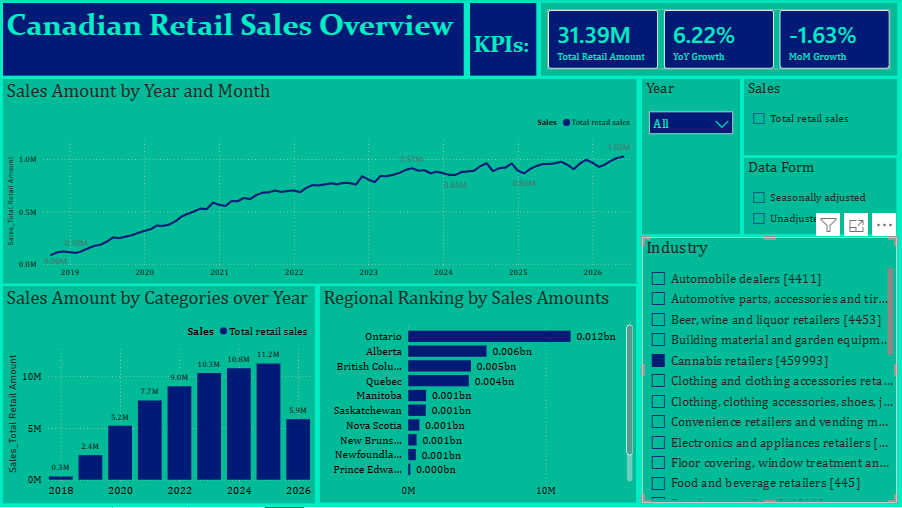

This screenshot's page, from the dashboard's own definition file:
{"tool":"powerbi","page":{"name":"Page 1","canvas":[1280,720],"ordinal":0},"visuals":[{"type":"lineChart","title":"Sales Amount by Year and Month","fields":{"Category":["20100056.Dated.Variation.Date Hierarchy.Year","20100056.Dated.Variation.Date Hierarchy.Month"],"Series":["20100056.Sales"],"Y":["Retail Sales Canada.Sales_Total Retail Amount"]},"box":[6.7,113.3,898.3,290],"z":0},{"type":"clusteredBarChart","title":"Regional Ranking by Sales Amounts","fields":{"Category":["Retail Sales Canada.Region"],"Y":["Retail Sales Canada.Region_Total Retail Amount"]},"box":[456.7,406.7,448,307],"z":1000},{"type":"slicer","title":"Year","fields":{"Values":["20100056.Dated.Variation.Date Hierarchy.Year","Retail Sales Canada.Dated.Variation.Date Hierarchy.Month"]},"box":[912.8,113.4,139,219.7],"z":2000},{"type":"slicer","title":"Data Form","fields":{"Values":["20100056.Data Form"]},"box":[1057.3,226,216,108],"z":3000},{"type":"slicer","title":"Industry","fields":{"Values":["20100056.Industry"]},"box":[912.8,338,361,377],"z":4000},{"type":"clusteredColumnChart","title":"Sales Amount by Categories over Year","fields":{"Category":["20100056.Dated.Variation.Date Hierarchy.Year"],"Series":["20100056.Sales"],"Y":["Retail Sales Canada.Sales_Total Retail Amount"]},"box":[6.7,406.7,442.2,307.6],"z":5000},{"type":"slicer","title":"Sales","fields":{"Values":["20100056.Sales"]},"box":[1057.3,113.4,216.9,108],"z":6000},{"type":"cardVisual","fields":{"Data":["20100056.Total Retail Amount","Retail Sales Canada.YoY Growth %","Retail Sales Canada.MoM Growth %"]},"box":[769.6,5,504.6,103.5],"z":7000},{"type":"textbox","box":[6.7,5,653.4,103.5],"z":8000},{"type":"textbox","box":[669,5.7,94,103.5],"z":9000}]}

Visuals, with their boxes in screenshot pixels (x1, y1, x2, y2), scaled from the page's 1280x720 canvas onto the 902x508 screenshot:
"Sales Amount by Year and Month" lineChart: <box>5,80,638,285</box>
"Regional Ranking by Sales Amounts" clusteredBarChart: <box>322,287,638,504</box>
"Year" slicer: <box>643,80,741,235</box>
"Data Form" slicer: <box>745,159,897,236</box>
"Industry" slicer: <box>643,238,898,504</box>
"Sales Amount by Categories over Year" clusteredColumnChart: <box>5,287,316,504</box>
"Sales" slicer: <box>745,80,898,156</box>
cardVisual - 20100056.Total Retail Amount x Retail Sales Canada.YoY Growth %: <box>542,4,898,77</box>
textbox: <box>5,4,465,77</box>
textbox: <box>471,4,538,77</box>
